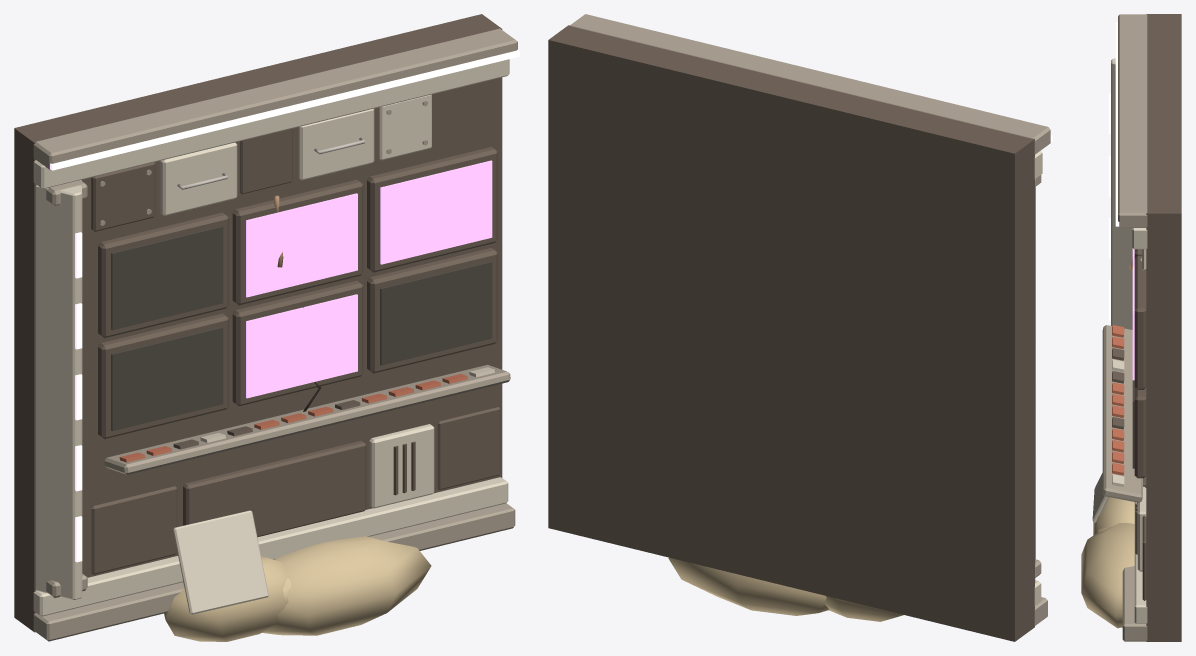
The model's file is wall_du_screens.glb.
The picture shows the model from 3 angles, left to right: view 1: azimuth 30°, elevation 25°; view 2: azimuth 150°, elevation 25°; view 3: azimuth 270°, elevation 25°; orthographic projection. The views are drawn at different scales.
Visible parts, largest first — view 1: wall_du_screens; view 2: wall_du_screens; view 3: wall_du_screens.
Boxes of the visible parts, box(x1,y1,x2,y2) form: wall_du_screens: box(14, 14, 519, 641); wall_du_screens: box(548, 14, 1052, 641); wall_du_screens: box(1081, 14, 1181, 641).
Size of the model in its own units: 4.01 by 4.45 by 0.8518.
